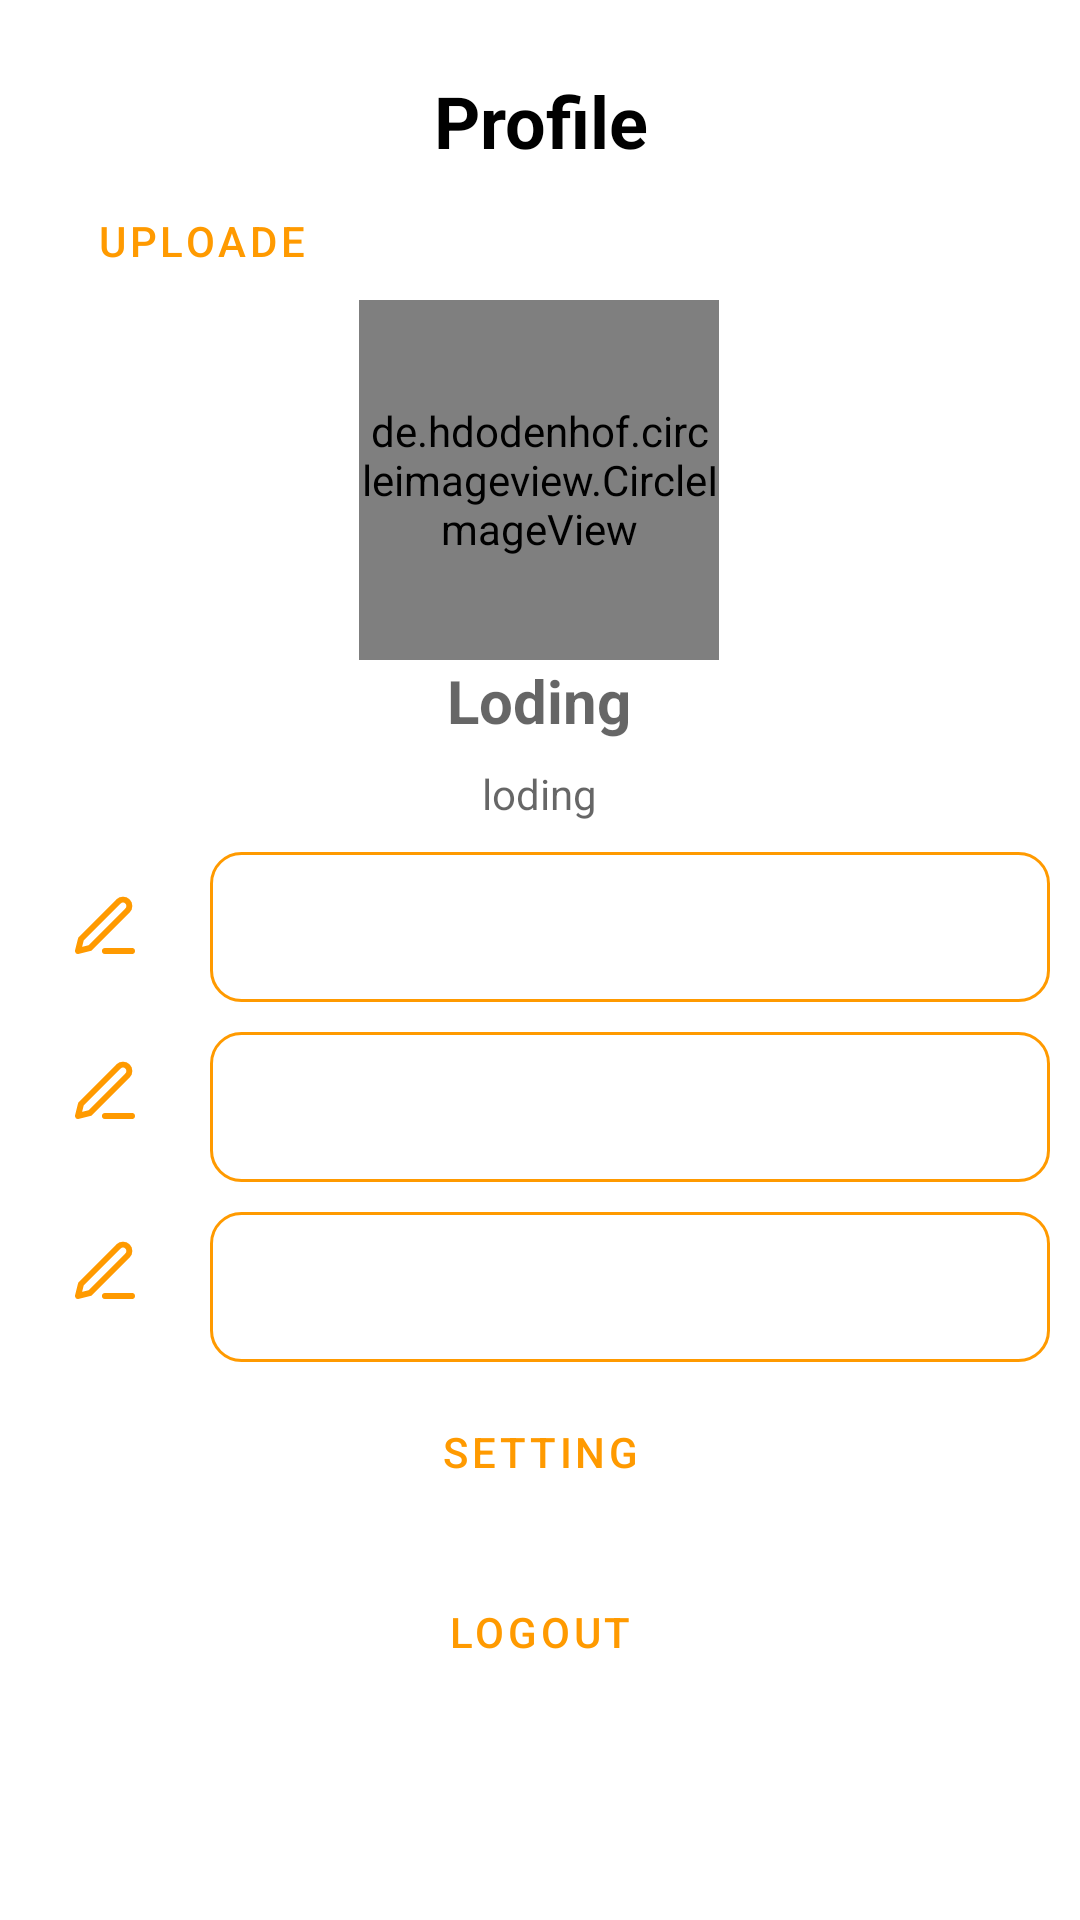

Locate icon controls on the screen. Image size 1080×1920, boxes as (x1, y1, x2, y2).
edit: (75, 896, 135, 954), (75, 1061, 135, 1119), (75, 1241, 135, 1299)
